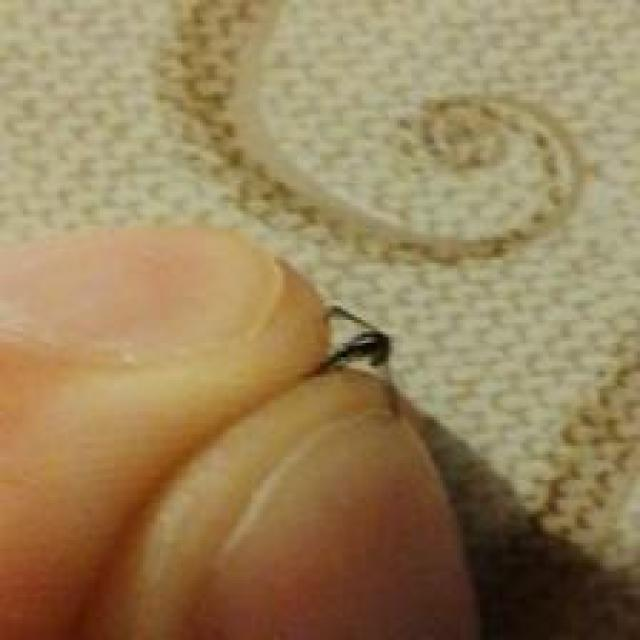Aedes albopictus: (150, 0, 596, 269)
